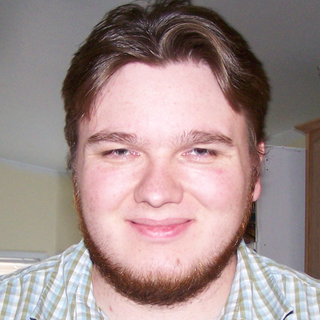eye: (169, 138, 229, 169), (87, 138, 142, 169)
